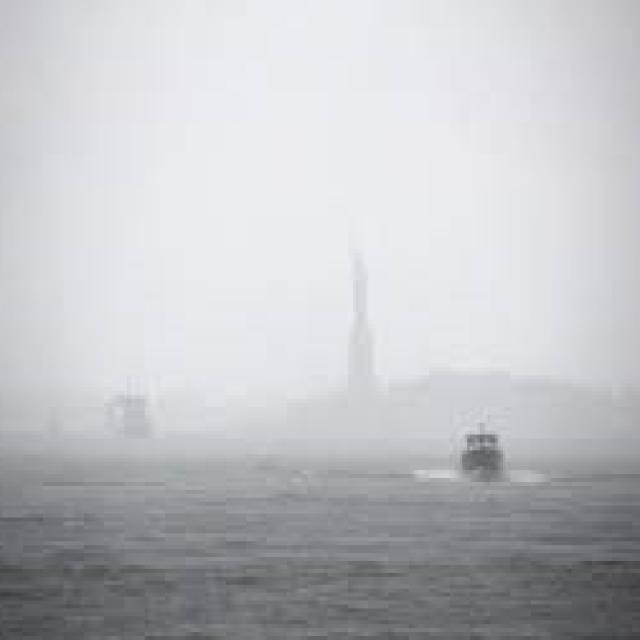houseboat: (95, 377, 164, 436), (457, 408, 507, 486)
